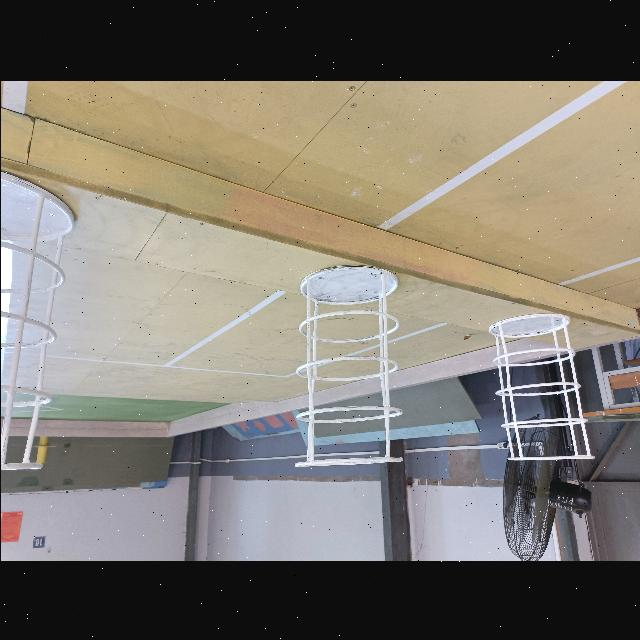S: (0, 167, 77, 472), (293, 261, 404, 468), (485, 309, 595, 463)
